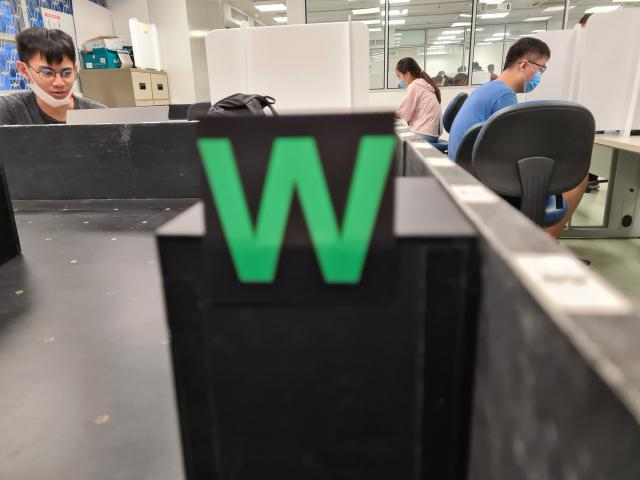w: (198, 112, 398, 304)
